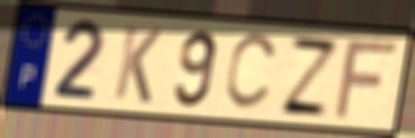2: (52, 15, 107, 106)
9: (173, 28, 218, 109)
C: (222, 32, 282, 115)
F: (330, 39, 402, 123)
K: (111, 22, 166, 107)
Z: (277, 33, 344, 120)
